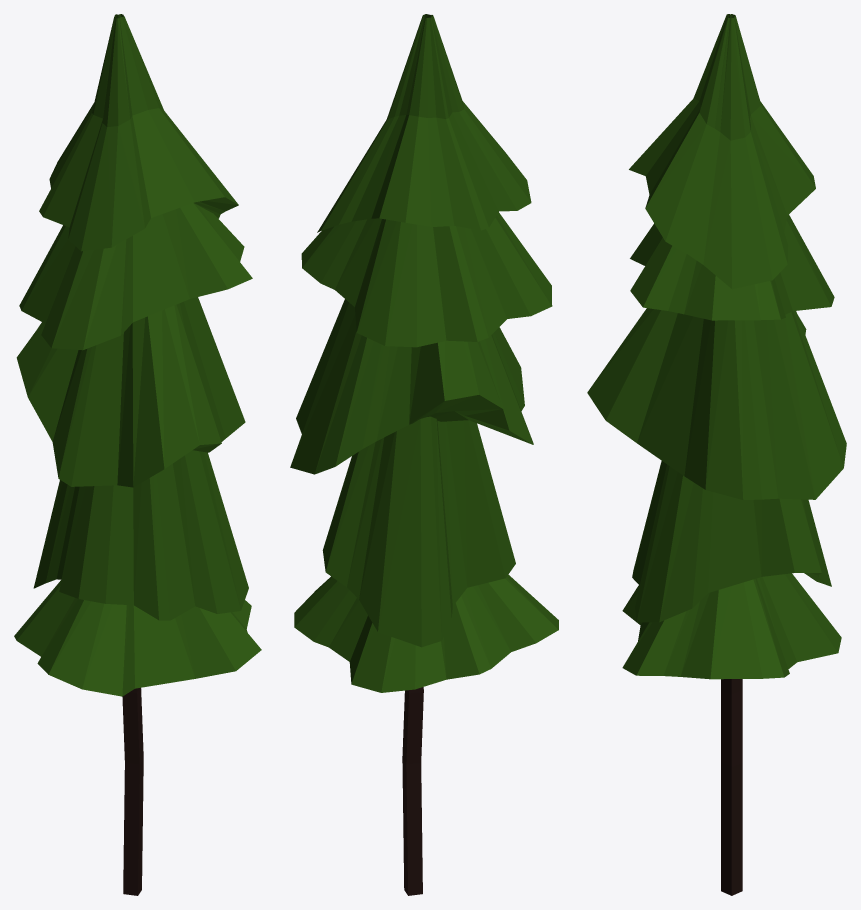
Rendered from SM_Tree_conifer_05.FBX.
The picture shows the model from 3 angles, left to right: view 1: azimuth 30°, elevation 25°; view 2: azimuth 150°, elevation 25°; view 3: azimuth 270°, elevation 25°; orthographic projection.
Parts seen in each view (by area): view 1: Object047; view 2: Object047; view 3: Object047.
Boxes of the visible parts, x1=… form: Object047: x1=14, y1=14, x2=261, y2=895; Object047: x1=290, y1=14, x2=558, y2=895; Object047: x1=587, y1=14, x2=846, y2=895.
Size of the model in its own units: 337 by 1249 by 338.
